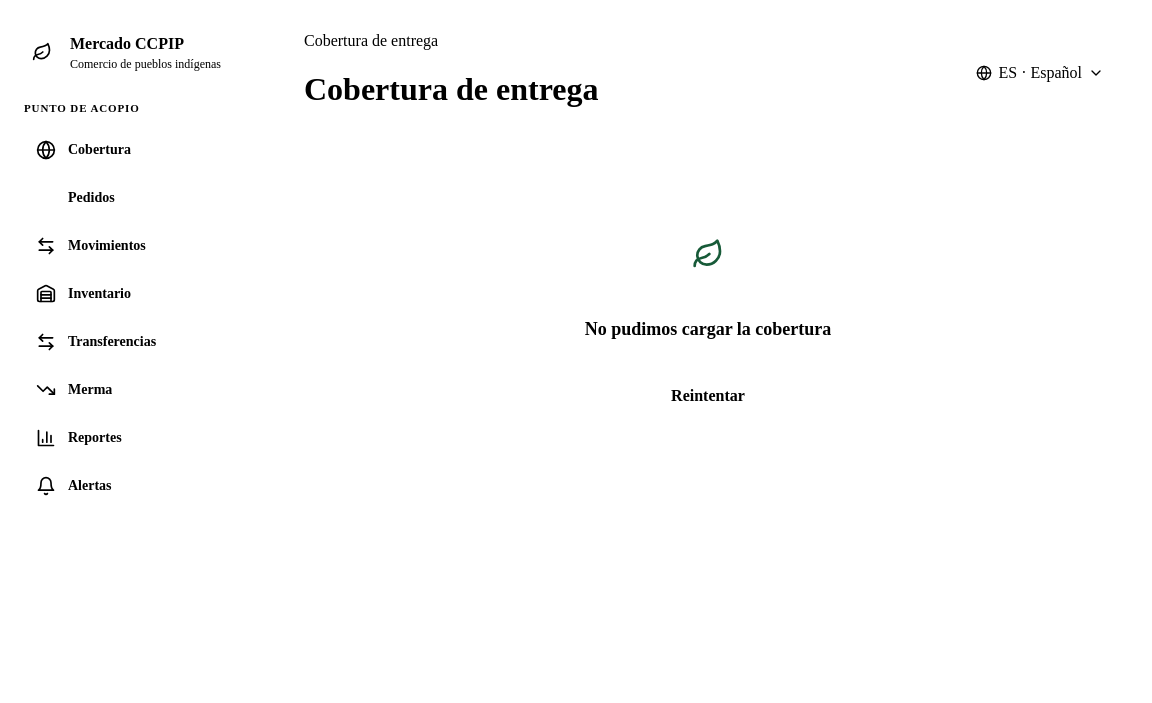
Test case: Cobertura del punto (CCPIP-401) › maneja zona vacía, falta de asignación 409 y retry de errores de servicio
The image size is (1152, 703).
Check: the text "No pudimos cargar la cobertura" is shown, box [585, 316, 831, 342]
Step 1. Click the button "Reintentar" → x=708, y=396, box [647, 372, 769, 420]
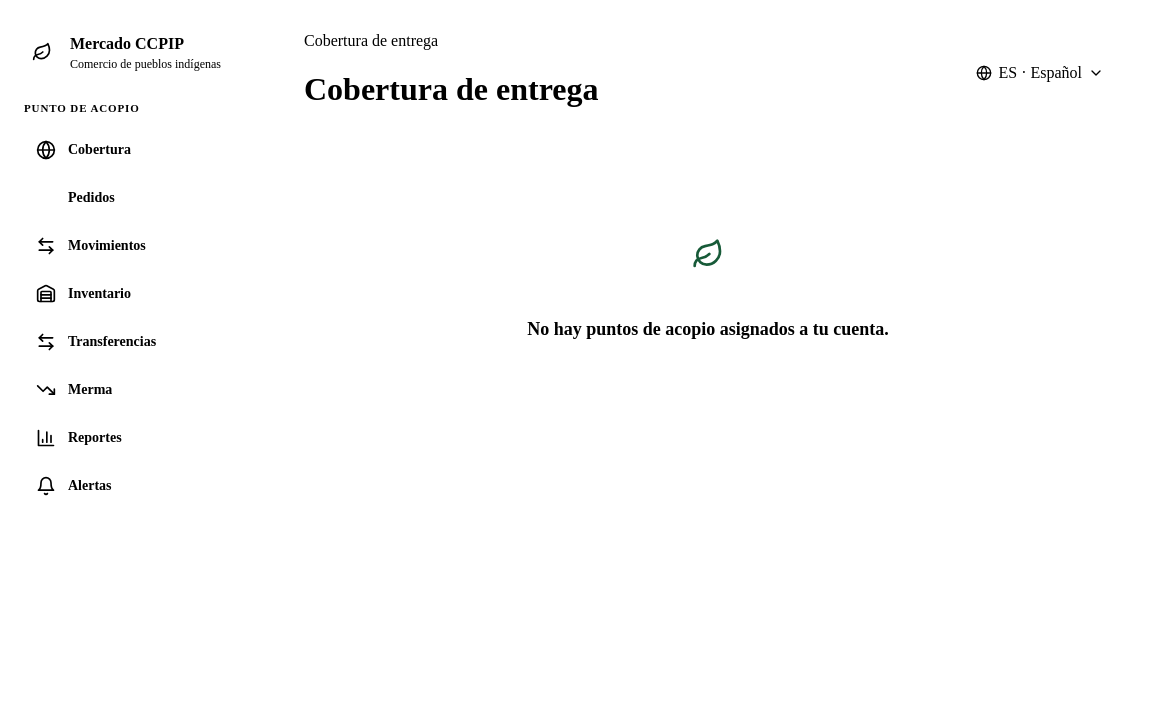
Check: the text "No hay puntos de acopio asignados a tu cuenta." is shown, box [527, 316, 889, 342]
